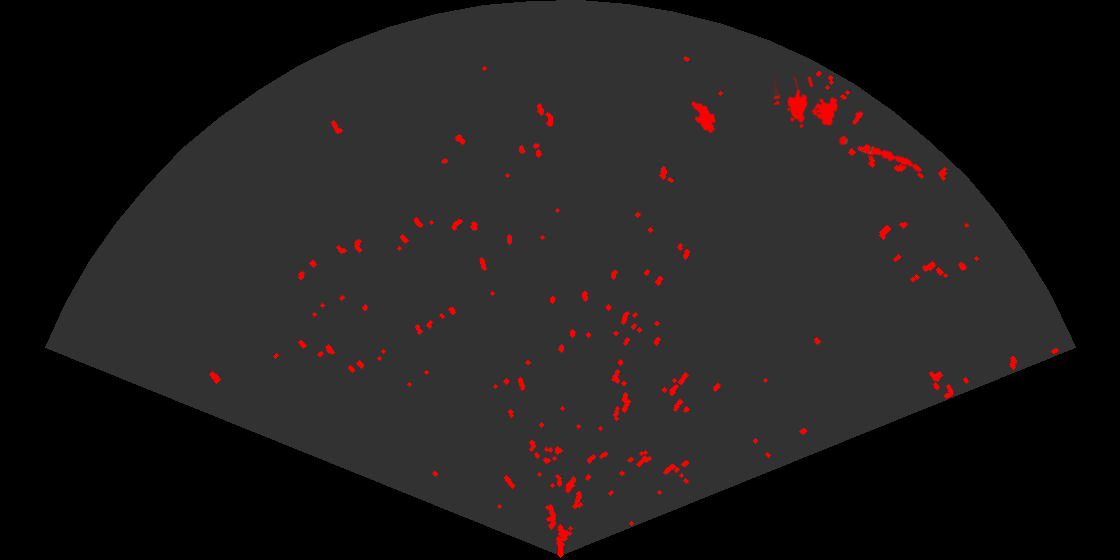AUV: (690, 100, 717, 135)
cage: (774, 77, 840, 130)
chain: (835, 134, 924, 174)
